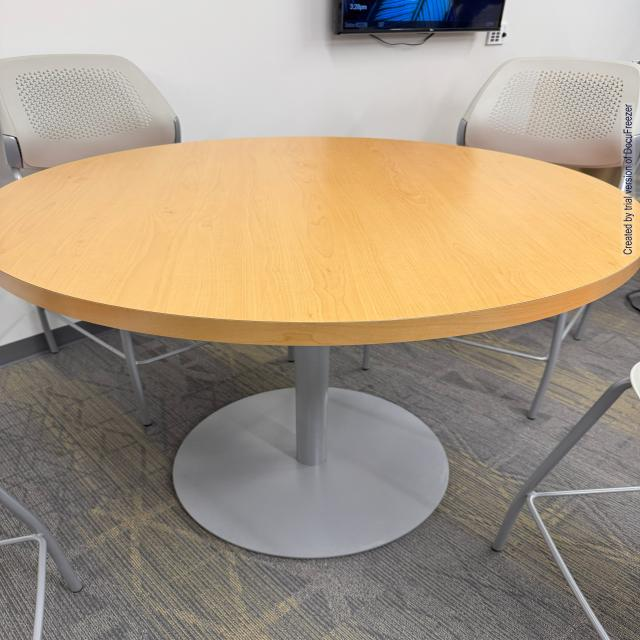Table: (0, 132, 634, 594)
